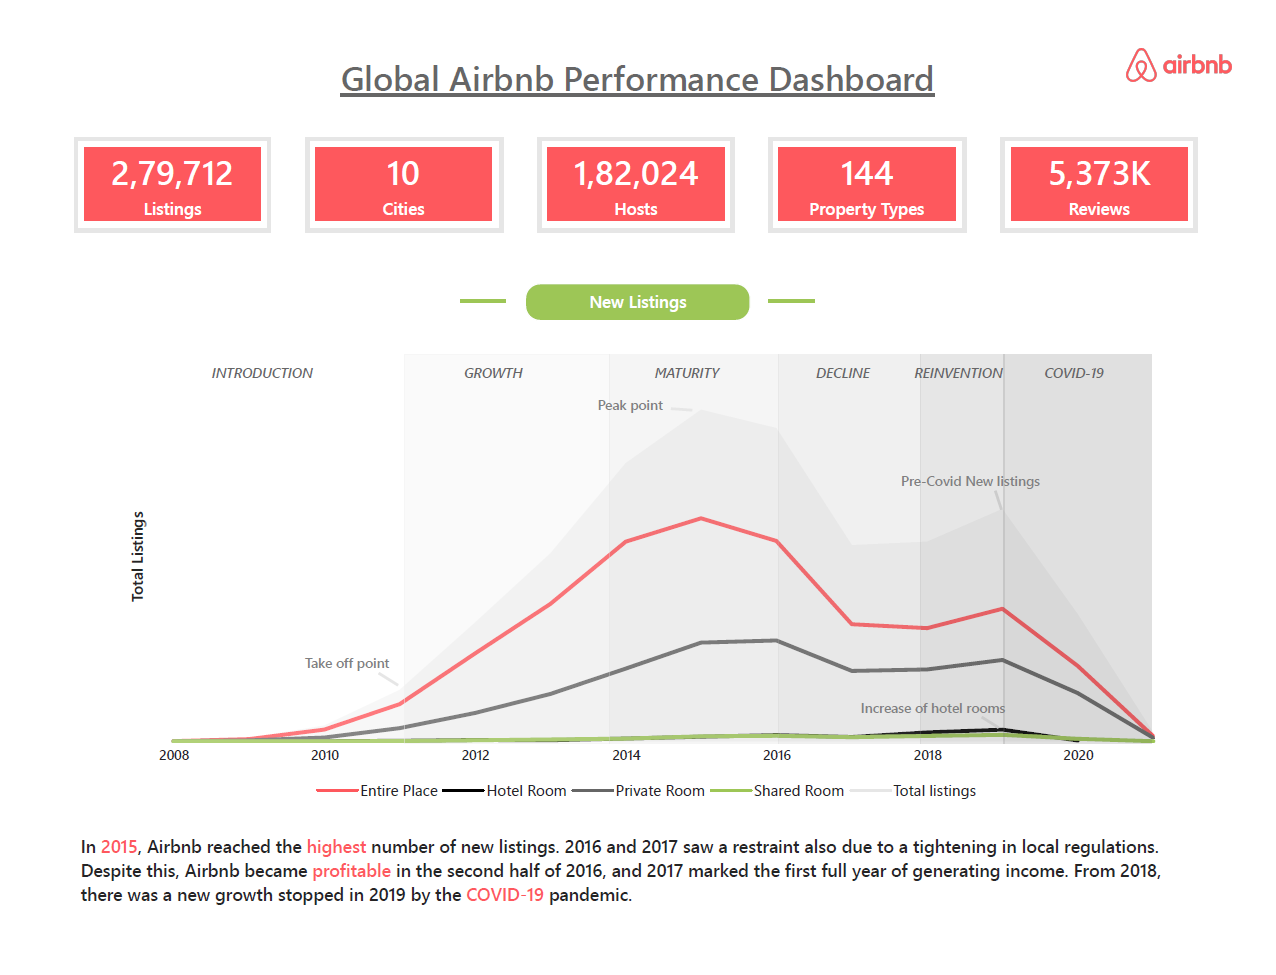

The page's visual inventory and layout, read from the dashboard file:
{"tool":"powerbi","page":{"name":"Overview","canvas":[960,720],"ordinal":0},"visuals":[{"type":"textbox","box":[227.5,0,505,50],"z":0},{"type":"cardVisual","fields":{"Data":["CountNonNull(Listings.listing_id)"]},"box":[40,80.5,155,74],"z":1000},{"type":"cardVisual","fields":{"Data":["Count(Listings.city)"]},"box":[221.9,80.5,155,74],"z":2000},{"type":"cardVisual","fields":{"Data":["Count(Listings.host_id)"]},"box":[403.8,81.7,155,74],"z":3000},{"type":"cardVisual","fields":{"Data":["Count(Listings.property_type)"]},"box":[585.6,81.7,155,74],"z":4000},{"type":"cardVisual","fields":{"Data":["Count(Reviews.review_id)"]},"box":[767.5,81.7,155,74],"z":5000},{"type":"lineChart","fields":{"Category":["Listings.host_since.Variation.Date Hierarchy.Year"],"Y":["Listings.Entire place","Listings.Hotel room","Listings.Private Room","Listings.Shared room","CountNonNull(Listings.listing_id)"]},"box":[47.5,256.2,865,337.5],"z":6000},{"type":"textbox","box":[358.8,198.8,242.5,35],"z":7000},{"type":"textbox","box":[42.5,613.8,875,72.5],"z":8000},{"type":"shape","box":[118.5,257,183.8,272.5],"z":9000},{"type":"shape","box":[302.2,257,170,272.5],"z":10000},{"type":"shape","box":[471,257,121.2,272.5],"z":11000},{"type":"shape","box":[592.2,257,116.2,272.5],"z":12000},{"type":"shape","box":[708.5,257,60,272.5],"z":13000},{"type":"shape","box":[768.5,257,118.8,272.5],"z":14000},{"type":"textbox","box":[113.8,258.8,186.2,22.5],"z":15000},{"type":"textbox","box":[300,258.8,168.8,31.2],"z":16000},{"type":"textbox","box":[468.8,257.5,120,31.2],"z":17000},{"type":"textbox","box":[592.5,258.8,116.2,31.2],"z":18000},{"type":"textbox","box":[693.8,258.8,95,31.2],"z":19000},{"type":"textbox","box":[768.8,258.8,118.8,31.2],"z":20000},{"type":"shape","box":[280.7,462.9,19.6,50.4],"z":21000},{"type":"shape","box":[492.6,298.4,22,15],"z":22000},{"type":"shape","box":[747.9,347.9,19.5,24.2],"z":23000},{"type":"shape","box":[686.8,505.3,21.6,15.8],"z":24000},{"type":"textbox","box":[210,462.5,95,28.8],"z":25000},{"type":"textbox","box":[408.8,288.8,95,28.8],"z":26000},{"type":"textbox","box":[663.8,331.2,142.5,28.8],"z":27000},{"type":"textbox","box":[586.2,487.5,141.2,28.8],"z":28000},{"type":"shape","box":[281.2,198.8,60,35],"z":29000},{"type":"shape","box":[620,198.8,60,35],"z":30000},{"type":"image","box":[857.5,0,102.5,25],"z":31000}]}

Visuals, with their boxes in screenshot pixels (x1, y1, x2, y2), scaled from the page's 960x720 canvas onto the 1276x975 screenshot:
textbox: locate(302, 0, 974, 68)
cardVisual - CountNonNull(Listings.listing_id): locate(53, 109, 259, 209)
cardVisual - Count(Listings.city): locate(295, 109, 501, 209)
cardVisual - Count(Listings.host_id): locate(537, 111, 743, 211)
cardVisual - Count(Listings.property_type): locate(778, 111, 984, 211)
cardVisual - Count(Reviews.review_id): locate(1020, 111, 1226, 211)
lineChart - Listings.host_since.Variation.Date Hierarchy.Year x Listings.Entire place: locate(63, 347, 1213, 804)
textbox: locate(477, 269, 799, 317)
textbox: locate(56, 831, 1220, 929)
shape: locate(158, 348, 402, 717)
shape: locate(402, 348, 628, 717)
shape: locate(626, 348, 787, 717)
shape: locate(787, 348, 942, 717)
shape: locate(942, 348, 1021, 717)
shape: locate(1021, 348, 1179, 717)
textbox: locate(151, 350, 399, 381)
textbox: locate(399, 350, 623, 393)
textbox: locate(623, 349, 783, 391)
textbox: locate(788, 350, 942, 393)
textbox: locate(922, 350, 1048, 393)
textbox: locate(1022, 350, 1180, 393)
shape: locate(373, 627, 399, 695)
shape: locate(655, 404, 684, 424)
shape: locate(994, 471, 1020, 504)
shape: locate(913, 684, 942, 706)
textbox: locate(279, 626, 405, 665)
textbox: locate(543, 391, 670, 430)
textbox: locate(882, 448, 1072, 488)
textbox: locate(779, 660, 967, 699)
shape: locate(374, 269, 454, 317)
shape: locate(824, 269, 904, 317)
image: locate(1140, 0, 1275, 34)
